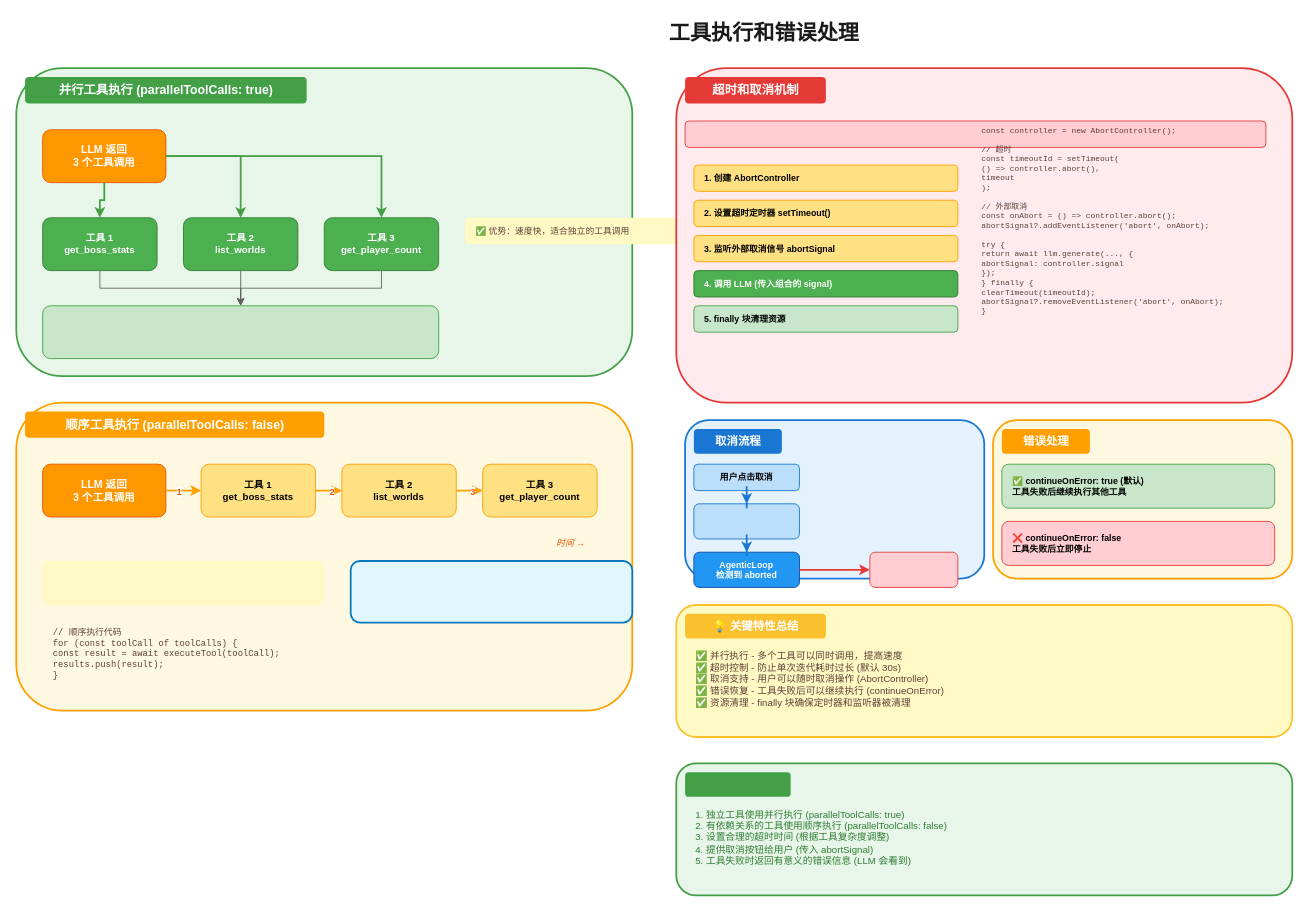
This 1308x911 diagram has some shape labels left out. The box of each missing label's shape, as (x1, y1, x2, y2) in pixels:
abortController .abort(): (693, 503, 799, 539)
callLLMWithTimeout() 流程: (684, 120, 1266, 147)
Promise.all() 等待所有工具完成: (42, 305, 439, 359)
status = 'cancelled': (869, 551, 958, 587)
⏱️ 性能对比 并行：max(t1, t2, t3) = 假设都是 1s，总共 1s 顺序：t1 + t2 + t3 = 1s + 1s + 1s = 3s: (349, 560, 633, 623)
✅ 优势：更安全，一个失败不影响其他 ⚠️ 劣势：速度慢，总时间 = 所有工具时间之和: (42, 561, 324, 605)
🎯 最佳实践: (685, 772, 790, 796)
